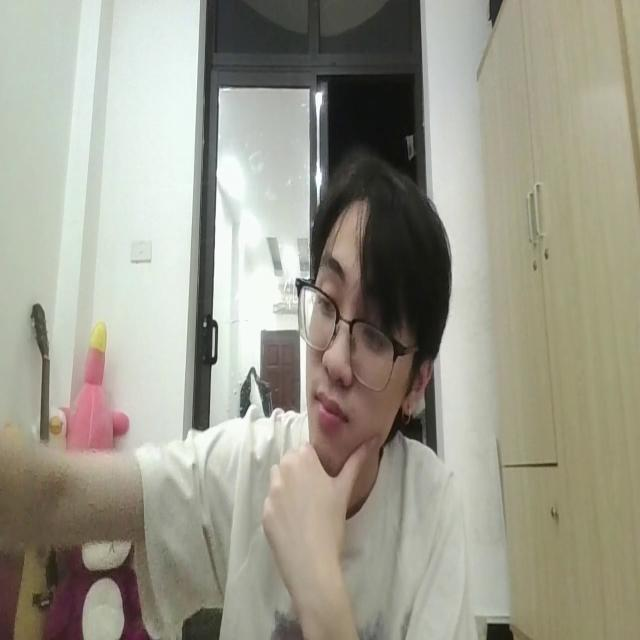student: (0, 162, 486, 640)
